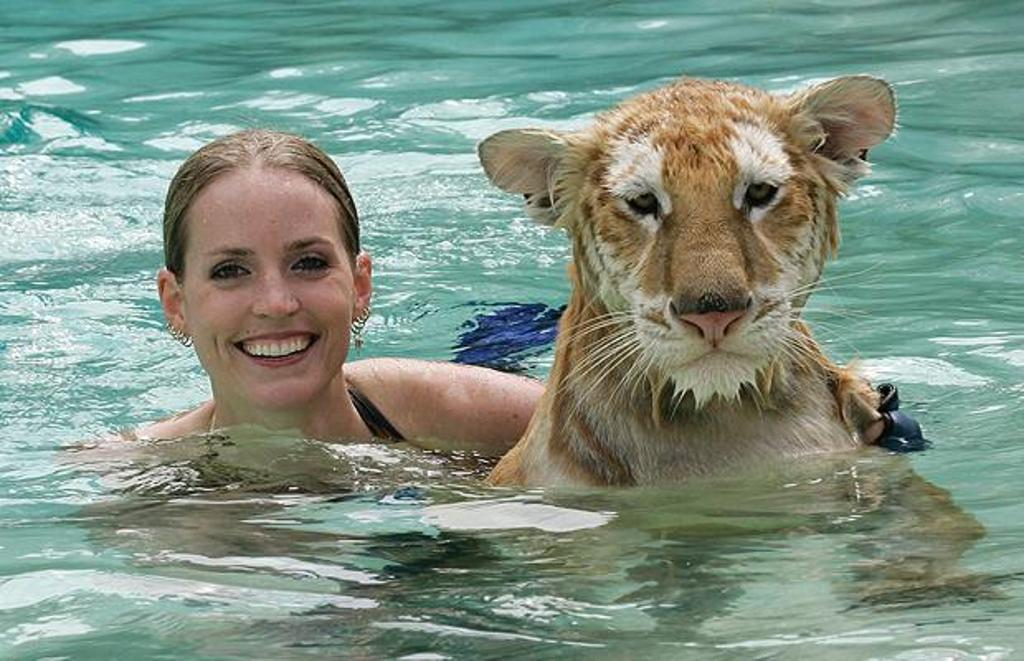face: (184, 206, 348, 400)
